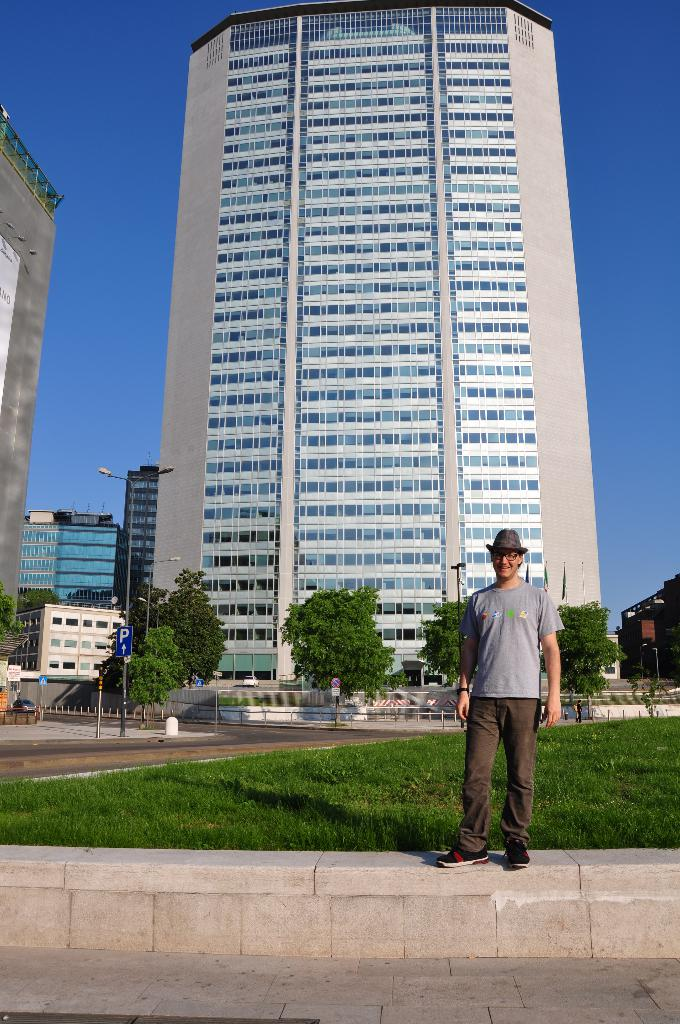Tree: (278, 583, 409, 712), (153, 561, 223, 684), (539, 599, 626, 697), (104, 583, 165, 691), (115, 627, 185, 721), (416, 595, 469, 686), (0, 584, 25, 642)
